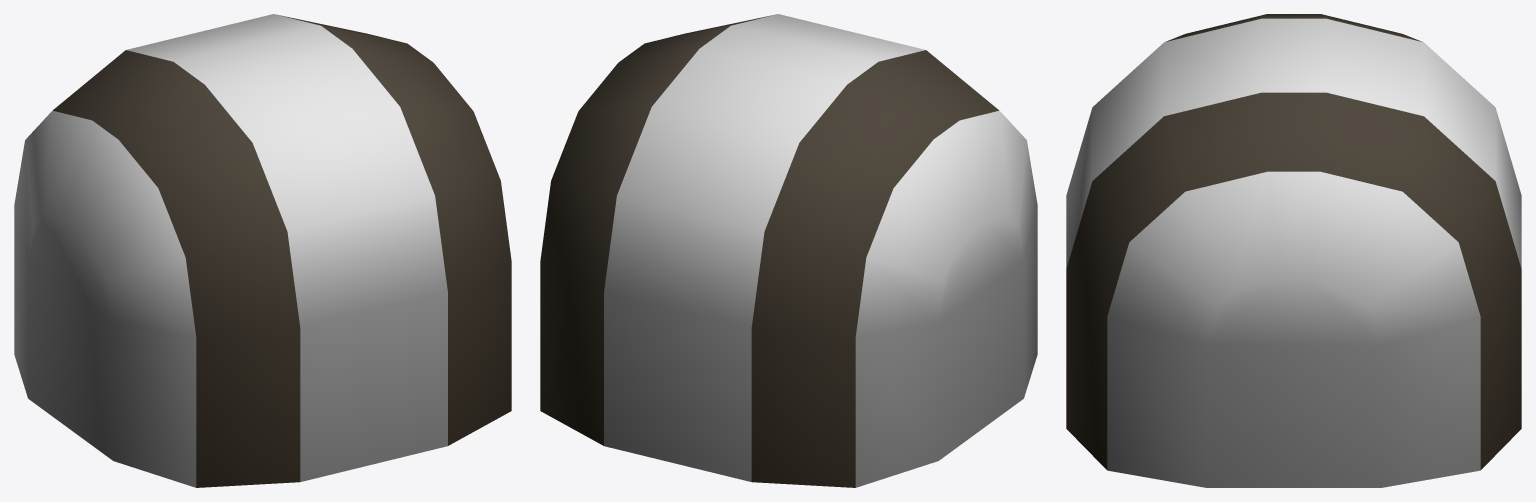
Rendered from part_Chocolate_1.fbx.
3 views of the same model, side by side, from view 1: azimuth 30°, elevation 25°; view 2: azimuth 150°, elevation 25°; view 3: azimuth 270°, elevation 25° (orthographic). The views are drawn at different scales.
Parts seen in each view (by area): view 1: choco_1; view 2: choco_1; view 3: choco_1.
Boxes of the visible parts, box(x1,y1,x2,y2) form: choco_1: box(14, 14, 511, 487); choco_1: box(540, 14, 1037, 487); choco_1: box(1066, 14, 1521, 487).
Bounding box in the file's own units: 12.86 × 10.47 × 12.86.
